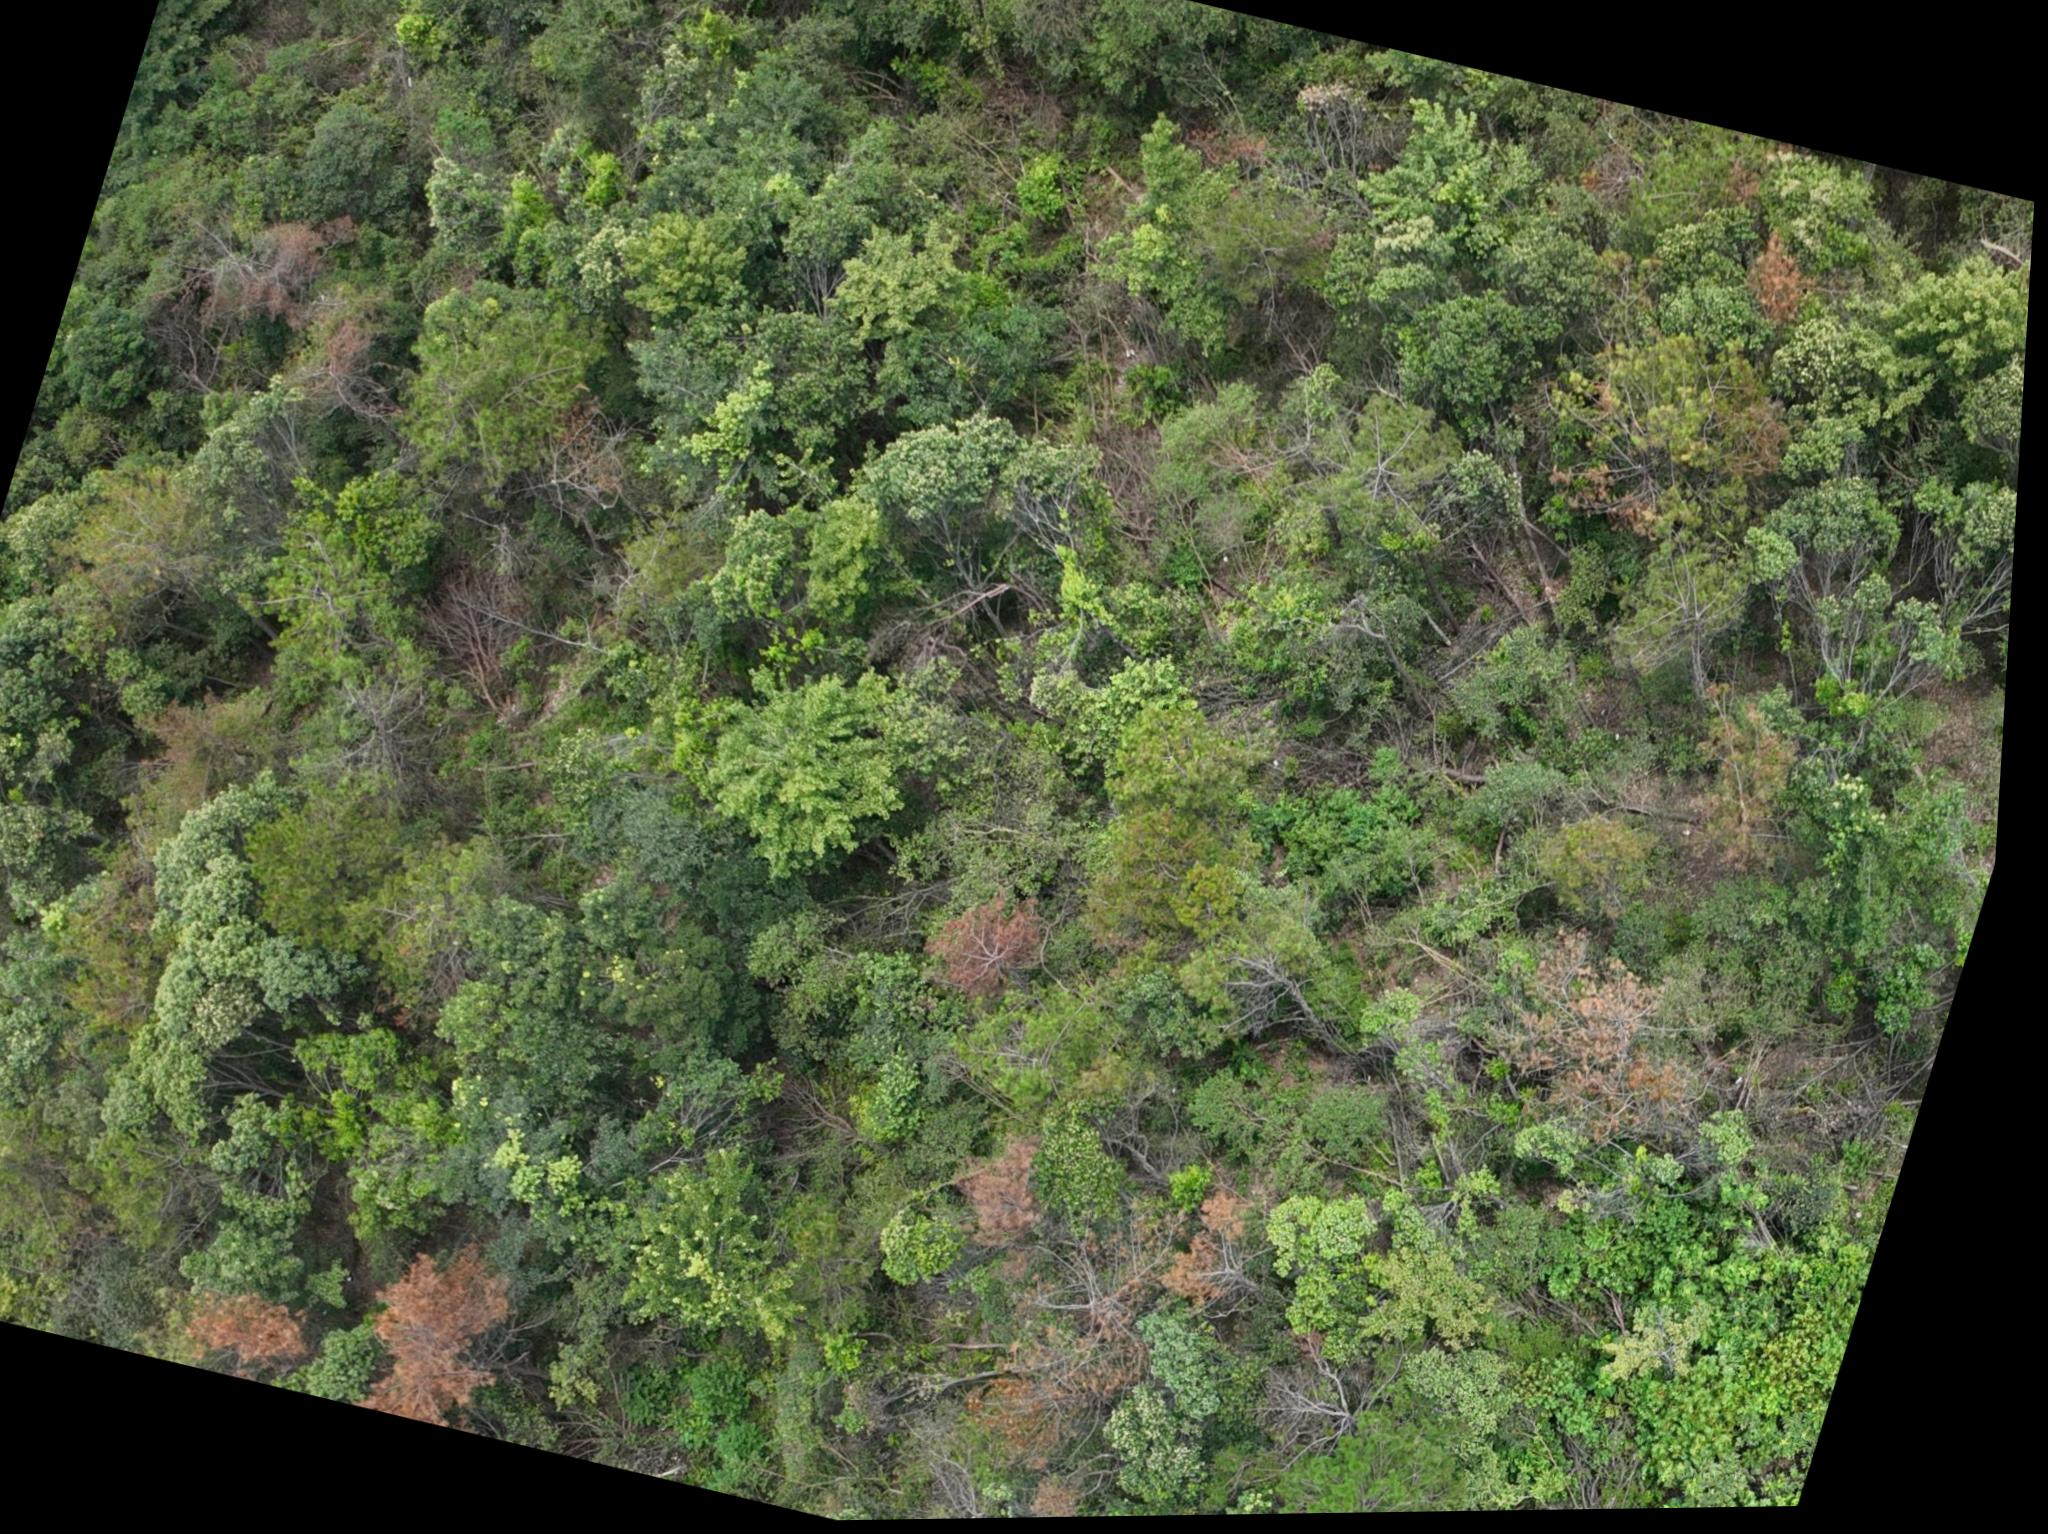dead: (408, 538, 569, 712), (1247, 1334, 1410, 1494), (1225, 957, 1376, 1068)
heavy: (1492, 939, 1747, 1160), (978, 1250, 1167, 1474), (369, 1234, 549, 1432), (925, 888, 1060, 1015), (1178, 1196, 1296, 1326), (190, 1284, 334, 1381), (956, 1134, 1068, 1257), (1732, 238, 1829, 329)
light: (1542, 324, 1798, 556)
